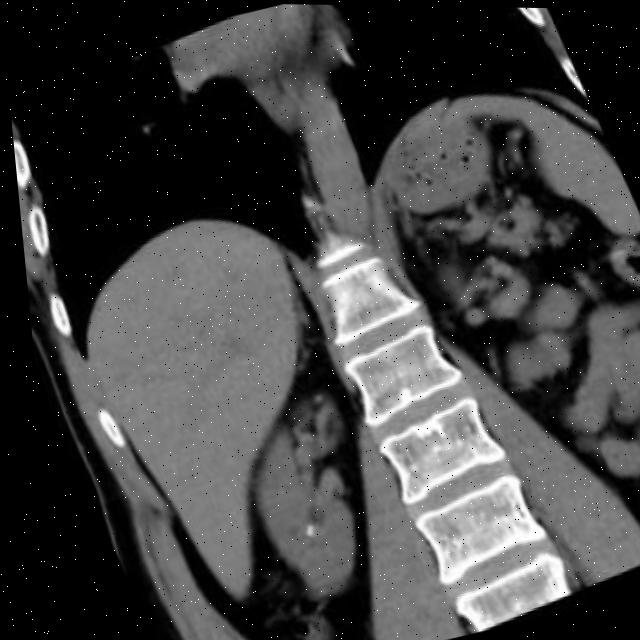Tas_Var: (265, 482, 280, 494), (291, 520, 305, 532), (291, 525, 302, 538)
